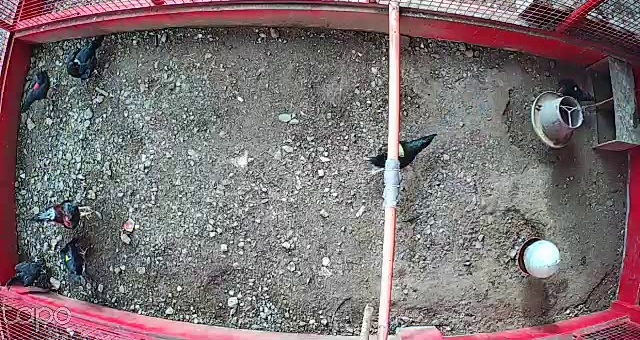Chicken: (363, 132, 440, 175), (62, 36, 112, 83), (13, 252, 66, 295), (20, 69, 58, 117), (57, 235, 91, 279), (554, 77, 603, 105)
Rooster: (31, 198, 99, 238)
Saddle_Color_Red: (32, 83, 39, 90)
Saddle_Color_Yellow: (64, 253, 73, 262)
